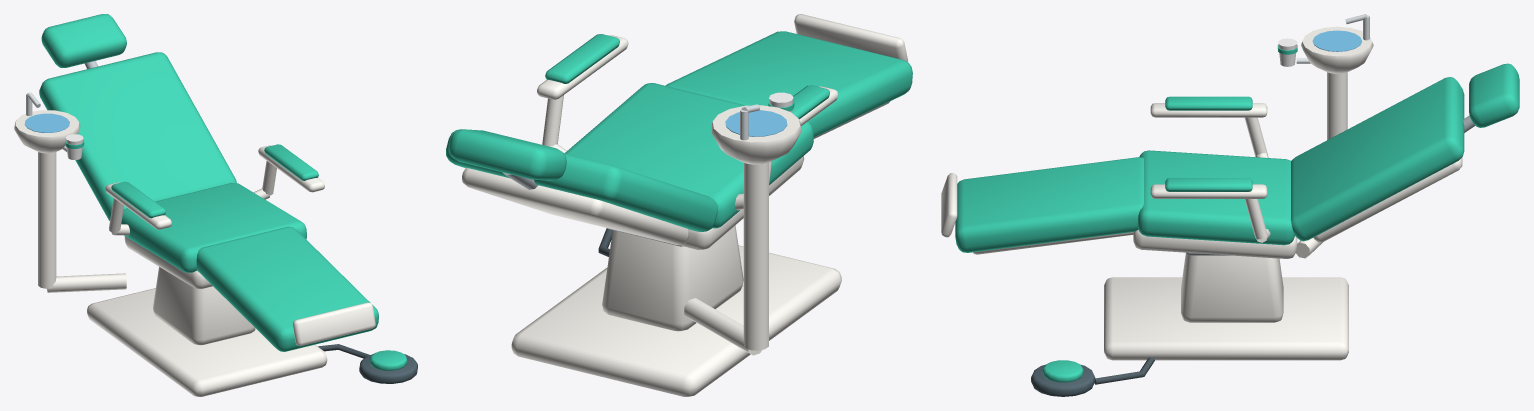
File: chair_basic.glb
3 renders of one model, left to right at view 1: azimuth 30°, elevation 25°; view 2: azimuth 150°, elevation 25°; view 3: azimuth 270°, elevation 25°, orthographic. The views are drawn at different scales.
Parts seen in each view (by area): view 1: Chair; view 2: Chair; view 3: Chair.
Boxes of the visible parts, left/top/right/bottom form: Chair: left=14, top=14, right=417, bottom=396; Chair: left=446, top=14, right=912, bottom=396; Chair: left=941, top=14, right=1519, bottom=396.
Bounding box in the file's own units: 1.17 × 0.9596 × 1.98.
